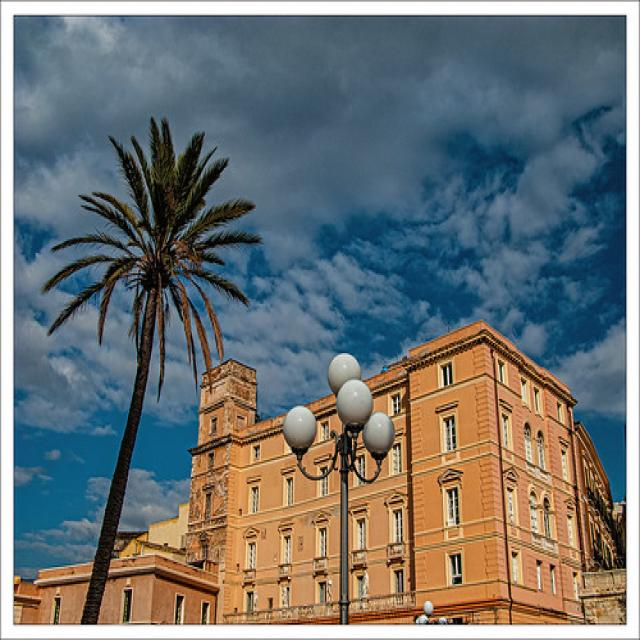Normal_building: (183, 320, 620, 622)
